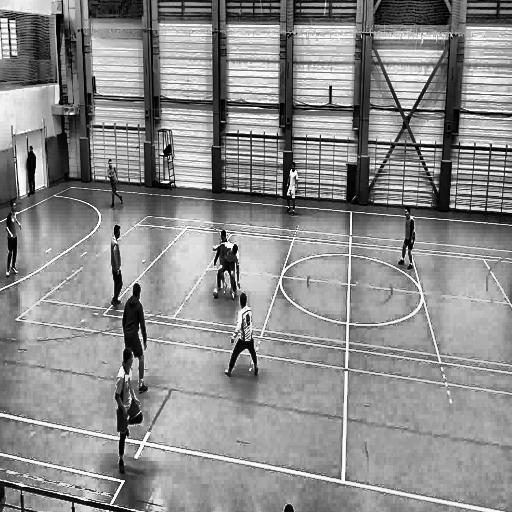ball: (211, 288, 219, 302)
player: (114, 348, 143, 476), (224, 294, 259, 379), (122, 284, 148, 394), (212, 228, 236, 299), (213, 242, 240, 302), (4, 197, 22, 280), (397, 205, 415, 272), (110, 226, 123, 312), (106, 158, 124, 209), (284, 162, 298, 218), (24, 144, 37, 198)
